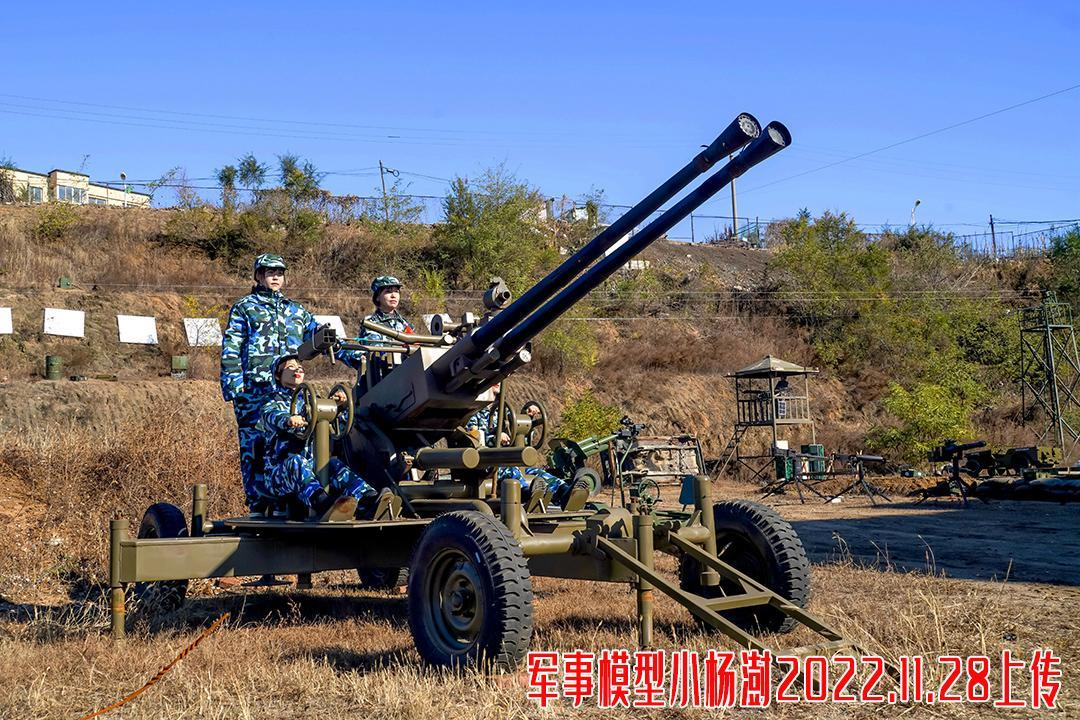MIL_SPG: (112, 116, 837, 669)
